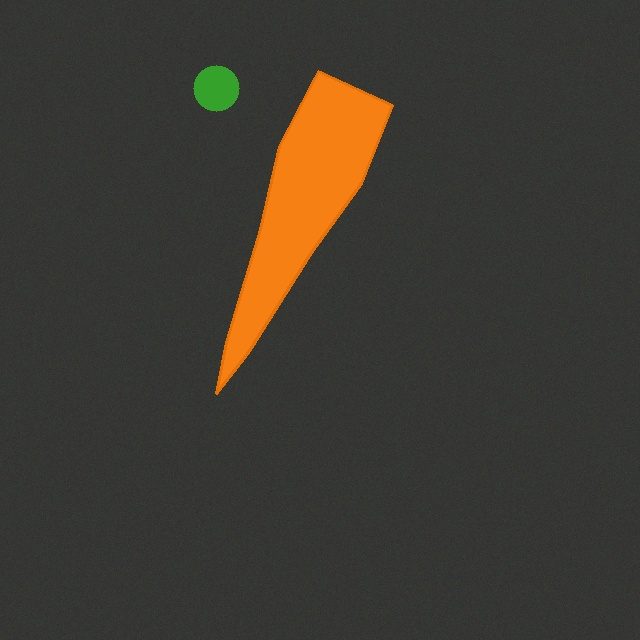Good_Carrot: (208, 63, 400, 401)
